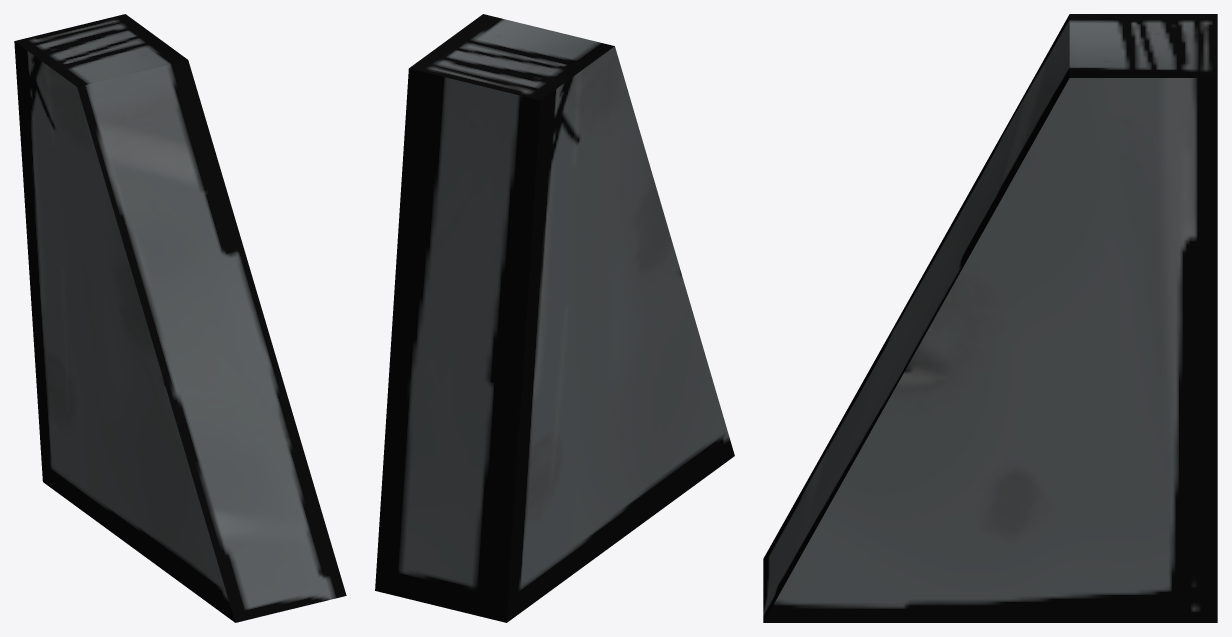
File: tombstone_05_gib6.fbx
The picture shows the model from 3 angles, left to right: view 1: azimuth 30°, elevation 25°; view 2: azimuth 150°, elevation 25°; view 3: azimuth 270°, elevation 25°; orthographic projection. The views are drawn at different scales.
Visible parts, largest first — view 1: tombstone_05_gib6; view 2: tombstone_05_gib6; view 3: tombstone_05_gib6.
Part boxes in pixels (box(x1,y1,x2,y2)): tombstone_05_gib6: box(14, 14, 346, 622); tombstone_05_gib6: box(375, 14, 734, 622); tombstone_05_gib6: box(763, 14, 1217, 622).
Size of the model in its own units: 1.26 by 3.85 by 3.
